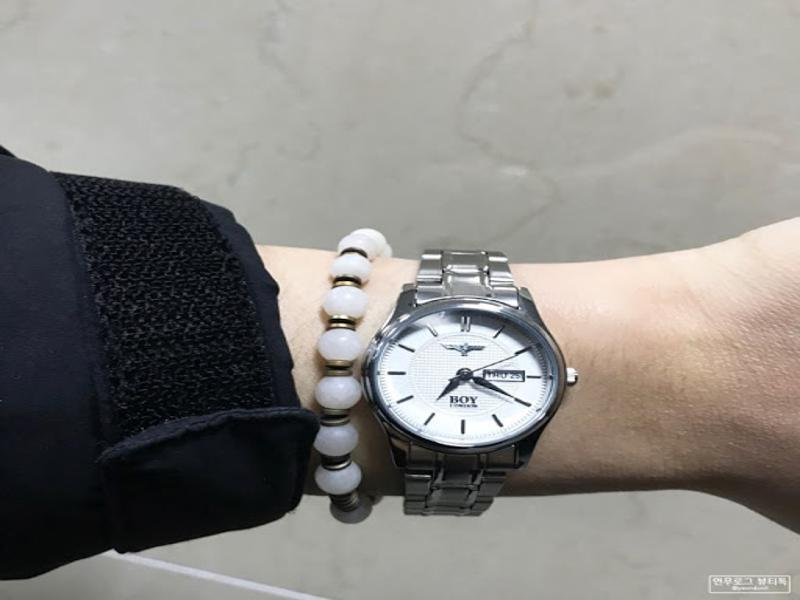watch: (361, 248, 576, 523)
